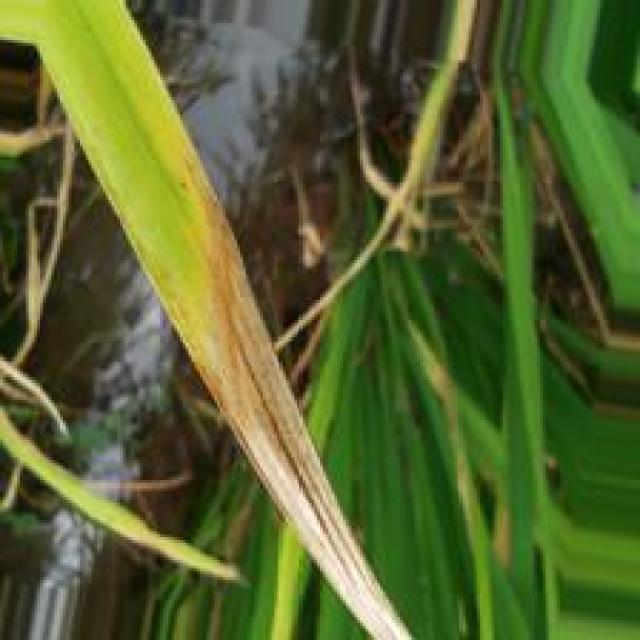Leaf_Scald: (187, 182, 411, 640)
